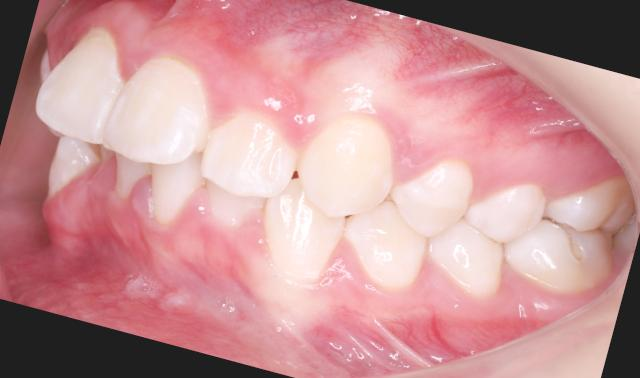canine class II 1/4: (245, 97, 458, 317)
molar class III 1/4: (498, 150, 640, 307)
